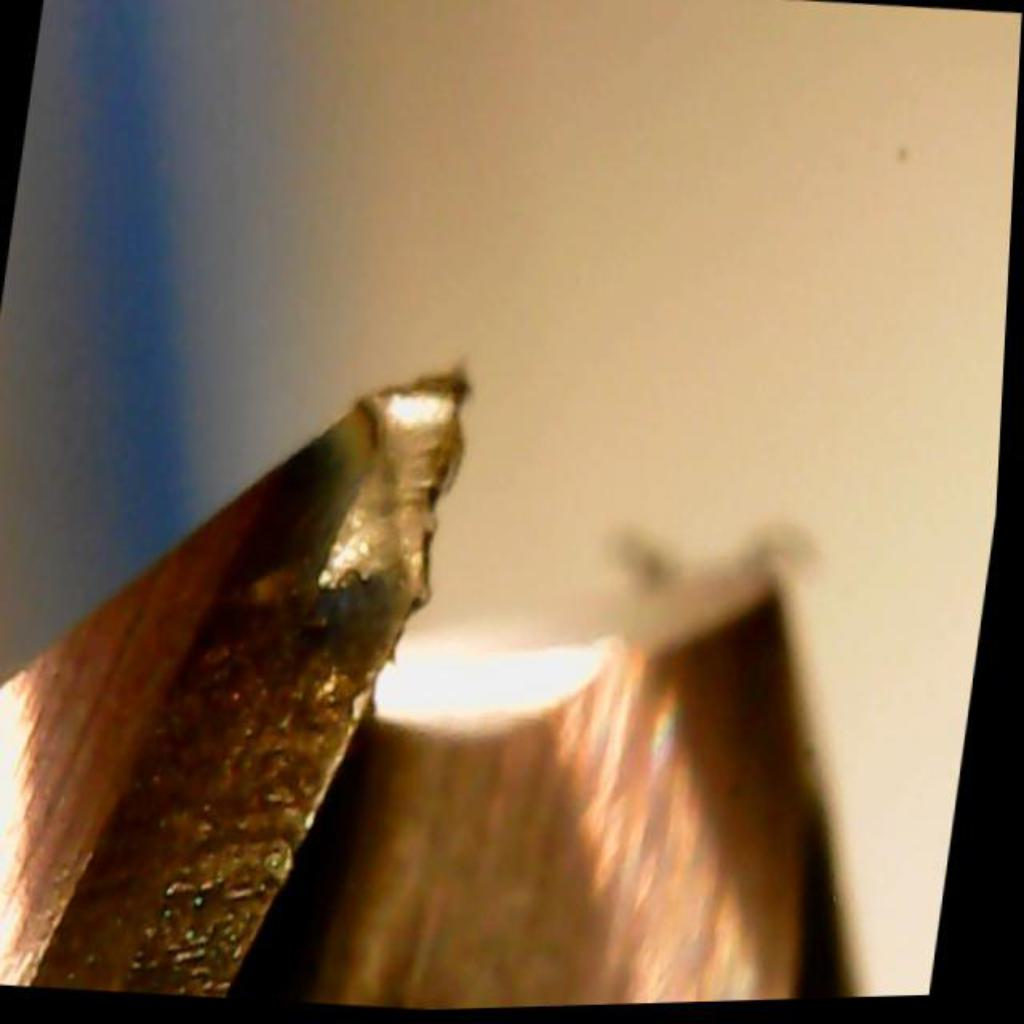Tool-wear-class-2: (209, 343, 492, 933)
